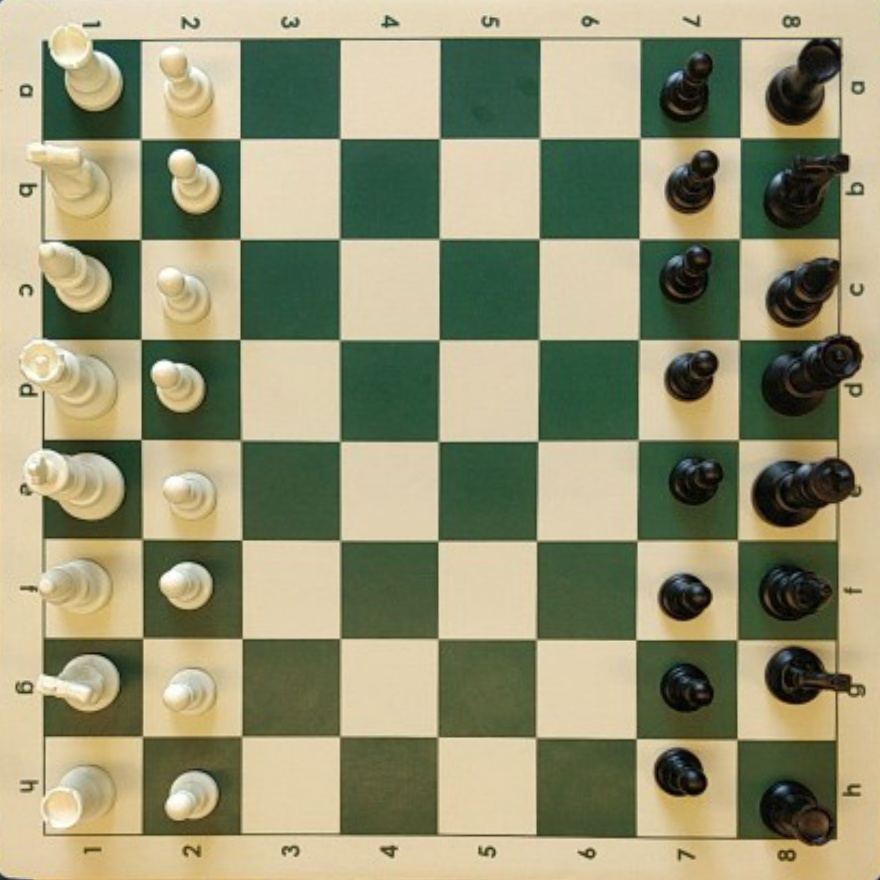black-bishop: (767, 257, 840, 326), (760, 564, 833, 620)
black-king: (753, 457, 858, 526)
black-knight: (765, 154, 849, 227), (765, 647, 866, 704)
black-pawn: (654, 257, 726, 323), (654, 357, 726, 423), (661, 51, 714, 120), (666, 150, 719, 211), (669, 455, 724, 505), (660, 662, 714, 712), (654, 748, 708, 797), (659, 573, 712, 620)
black-queen: (763, 336, 863, 414)
black-rook: (767, 38, 841, 124), (760, 779, 835, 844)
white-bishop: (40, 242, 112, 312), (36, 559, 112, 612)
white-king: (20, 448, 125, 520)
white-knight: (25, 141, 111, 216), (54, 657, 126, 723)
white-pawn: (167, 148, 221, 215), (160, 51, 213, 117), (157, 267, 210, 324), (150, 358, 205, 412), (164, 770, 219, 821), (158, 560, 212, 609), (162, 470, 216, 519), (163, 668, 215, 714)
white-queen: (19, 341, 117, 418)
white-rook: (48, 27, 124, 113), (41, 764, 115, 832)
